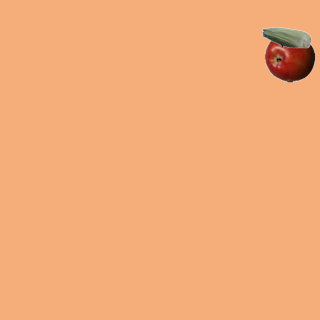Apple Braeburn: (264, 32, 314, 82)
Corn Husk: (261, 12, 311, 62)
